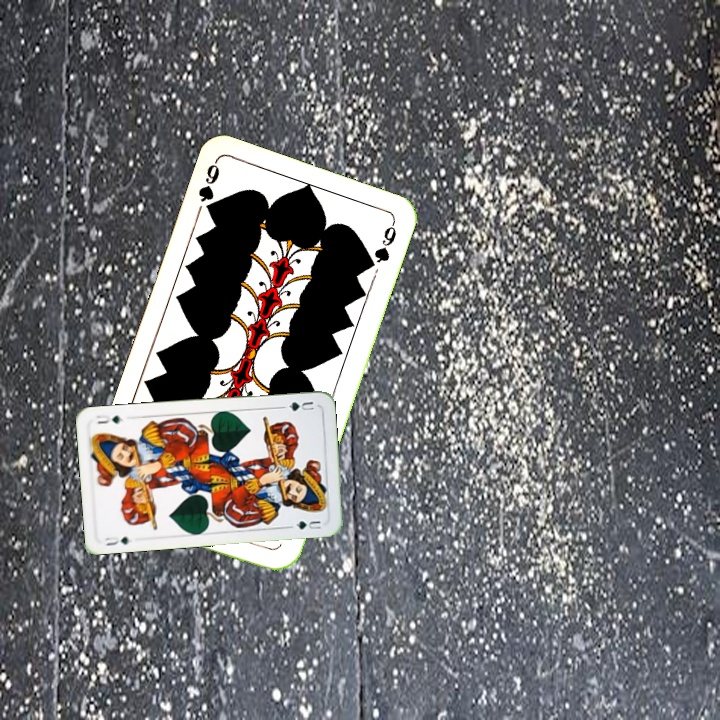G9: (194, 157, 222, 218)
GU: (285, 397, 316, 414), (101, 532, 132, 548)
